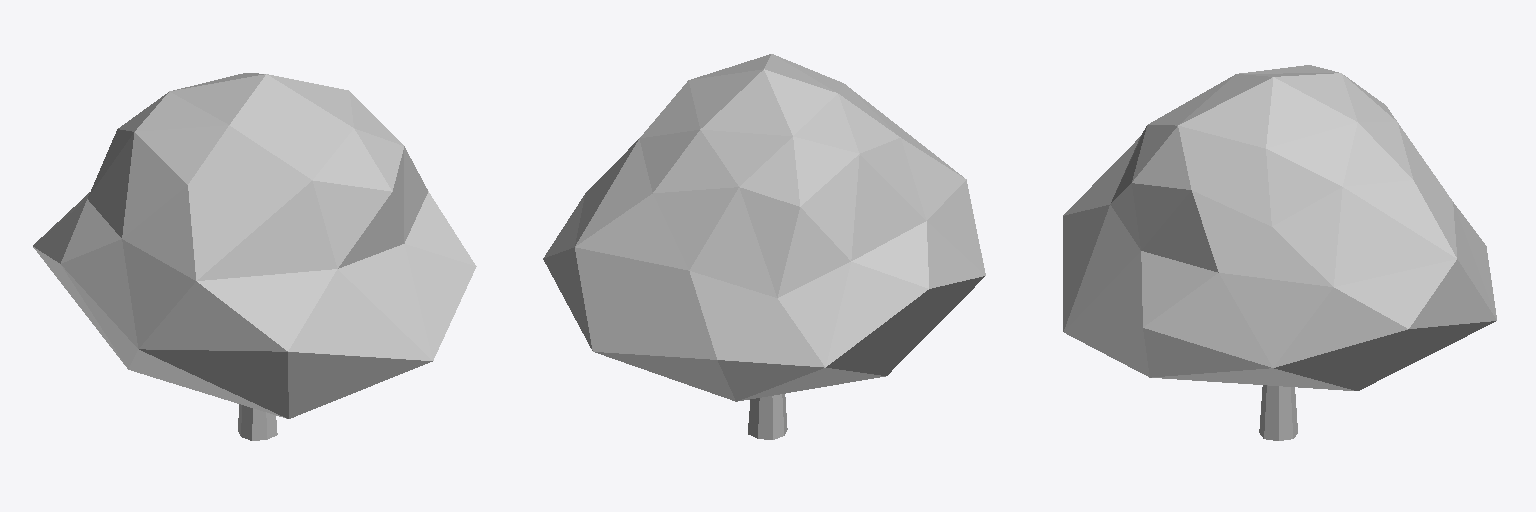
Rendered from tree-oak2.obj.
3 views of the same model, side by side, from view 1: azimuth 30°, elevation 25°; view 2: azimuth 150°, elevation 25°; view 3: azimuth 270°, elevation 25° (orthographic).
Parts seen in each view (by area): view 1: stalk_Cube.001; view 2: stalk_Cube.001; view 3: stalk_Cube.001.
Boxes of the visible parts, box(x1,y1,x2,y2) form: stalk_Cube.001: box(33, 73, 476, 440); stalk_Cube.001: box(543, 54, 985, 439); stalk_Cube.001: box(1063, 65, 1496, 440).
Bounding box in the file's own units: 5.24 × 5.13 × 5.53.